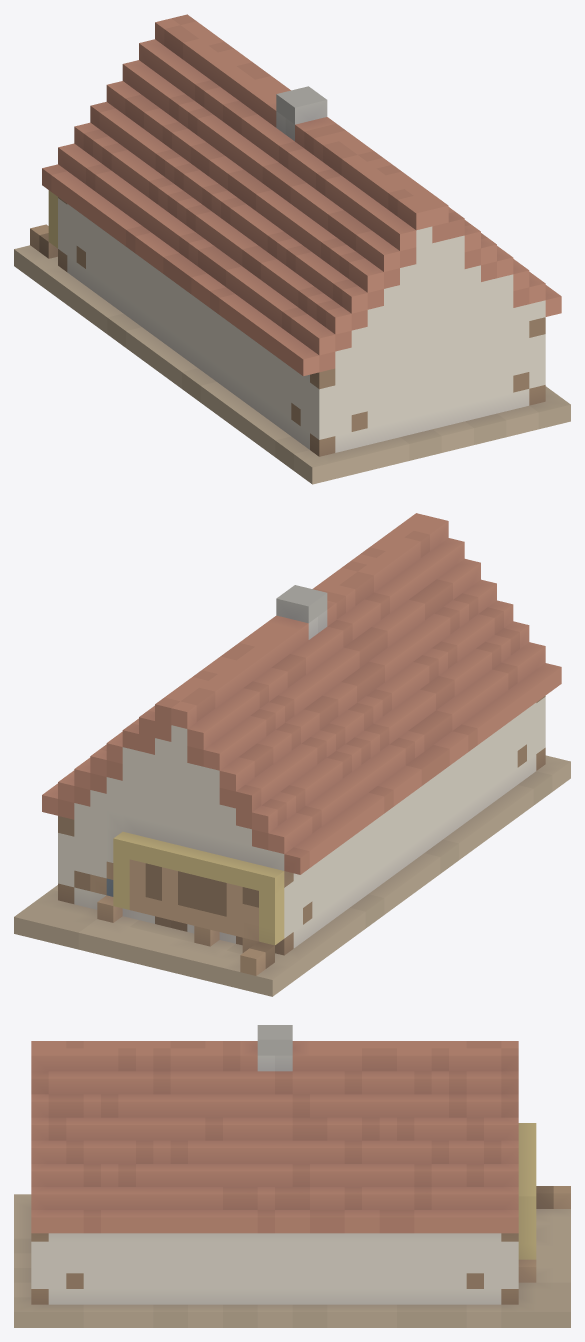
File: sailmaker.lite.glb
The picture shows the model from 3 angles, top to bottom: view 1: azimuth 30°, elevation 25°; view 2: azimuth 150°, elevation 25°; view 3: azimuth 270°, elevation 25°; orthographic projection. The views are drawn at different scales.
Parts seen in each view (by area): view 1: sailmaker; view 2: sailmaker; view 3: sailmaker.
Part boxes in pixels (left/top/right/bottom): sailmaker: left=14, top=14, right=570, bottom=484; sailmaker: left=14, top=513, right=570, bottom=996; sailmaker: left=14, top=1025, right=570, bottom=1327.
Size of the model in its own units: 4 by 3.75 by 8.
